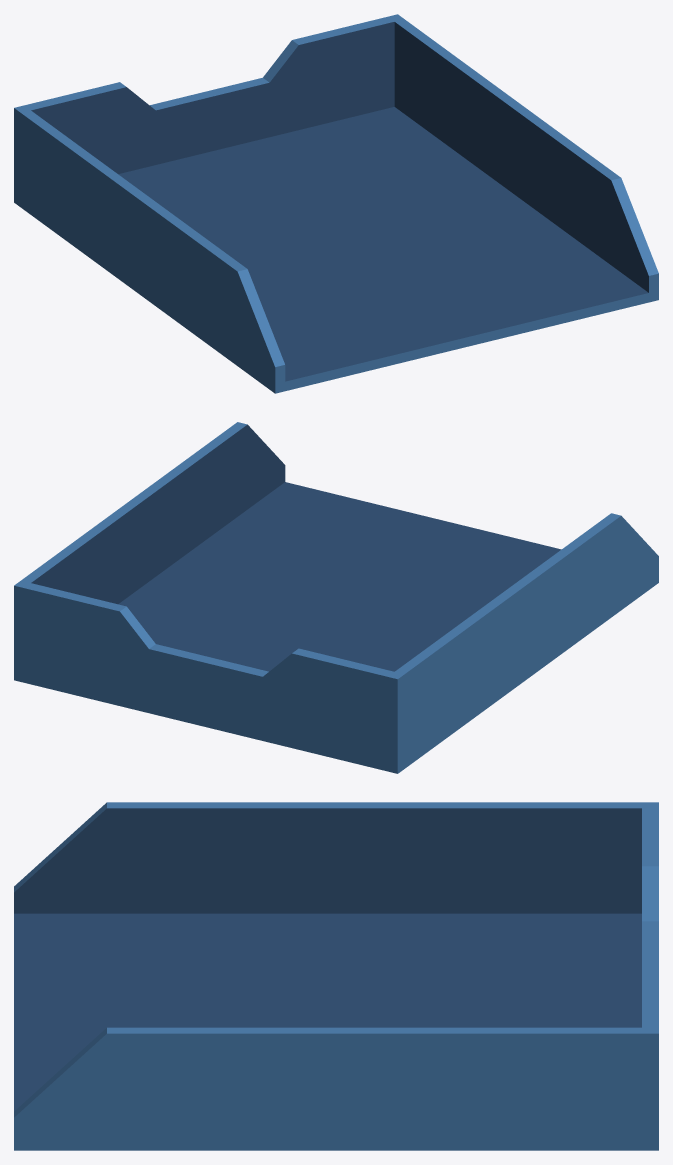
File: Document_Tray_Blue.fbx
3 renders of one model, top to bottom at view 1: azimuth 30°, elevation 25°; view 2: azimuth 150°, elevation 25°; view 3: azimuth 270°, elevation 25°, orthographic. The views are drawn at different scales.
Parts seen in each view (by area): view 1: File_Paper_Tray; view 2: File_Paper_Tray; view 3: File_Paper_Tray.
Boxes of the visible parts, left/top/right/bottom form: File_Paper_Tray: left=14, top=14, right=658, bottom=393; File_Paper_Tray: left=14, top=422, right=658, bottom=773; File_Paper_Tray: left=14, top=802, right=658, bottom=1150.
Bounding box in the file's own units: 28 × 6.6 × 33.
